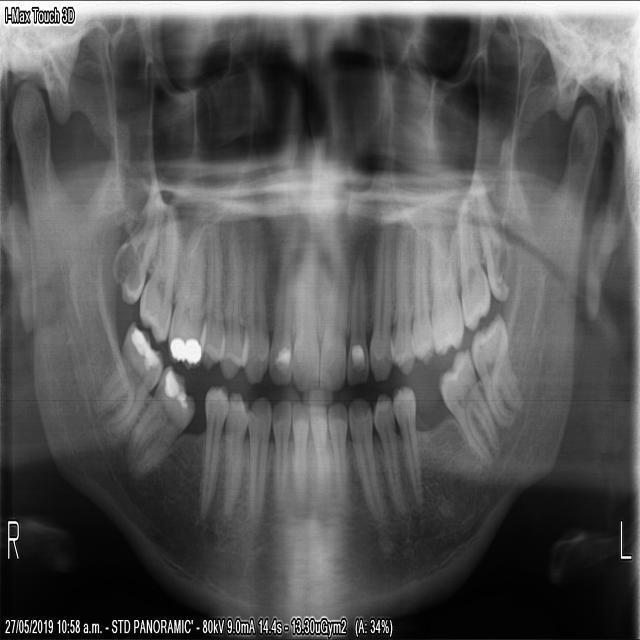LCD: (347, 390, 387, 524)
LCU: (368, 226, 393, 382)
LID: (326, 401, 348, 508), (308, 397, 330, 497)
LIU: (318, 227, 350, 393), (344, 240, 368, 387)
LMD: (437, 342, 501, 466), (470, 307, 525, 431)
LMU: (428, 223, 464, 358), (456, 195, 490, 332), (476, 183, 512, 306)
LPMD: (372, 389, 407, 515), (394, 381, 423, 506)
LPMU: (394, 227, 415, 377), (412, 227, 434, 367)
RCD: (244, 394, 270, 531)
RCU: (237, 223, 269, 386)
RID: (270, 398, 289, 510), (290, 400, 307, 506)
RIU: (266, 215, 299, 386), (290, 243, 319, 394)
RMD: (87, 317, 165, 439), (122, 363, 194, 481)
RMU: (109, 180, 165, 306), (165, 208, 207, 368), (136, 200, 177, 344)
RPMD: (194, 382, 227, 524), (221, 388, 248, 522)
RPMU: (197, 214, 222, 371), (217, 219, 241, 380)
